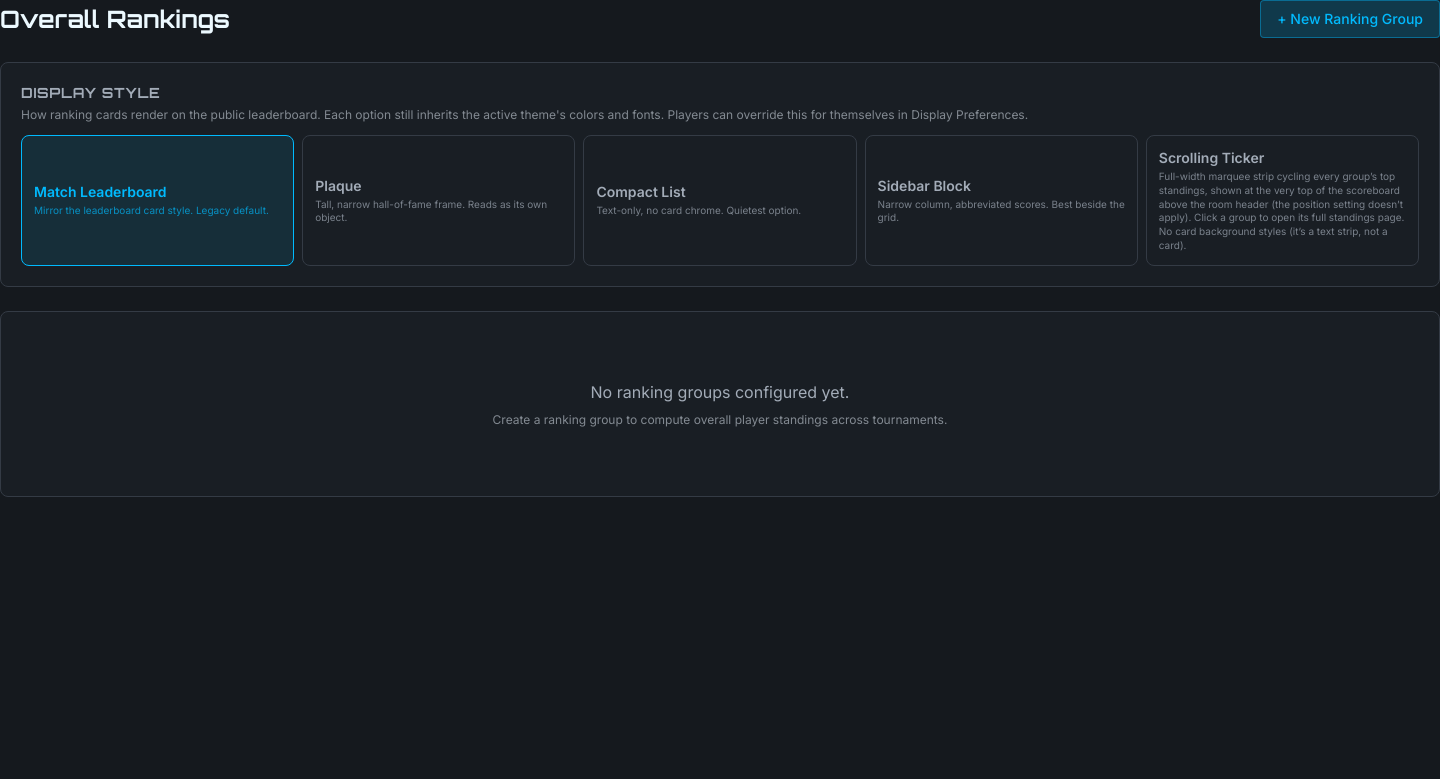
Test case: Rankings — season fields › shows Points for 1st only for Countdown, plus the archived checkbox
This screenshot has width=1440, height=779.
Click the button "+ New Ranking Group". click: (1350, 19)
box: [1260,0,1439,38]
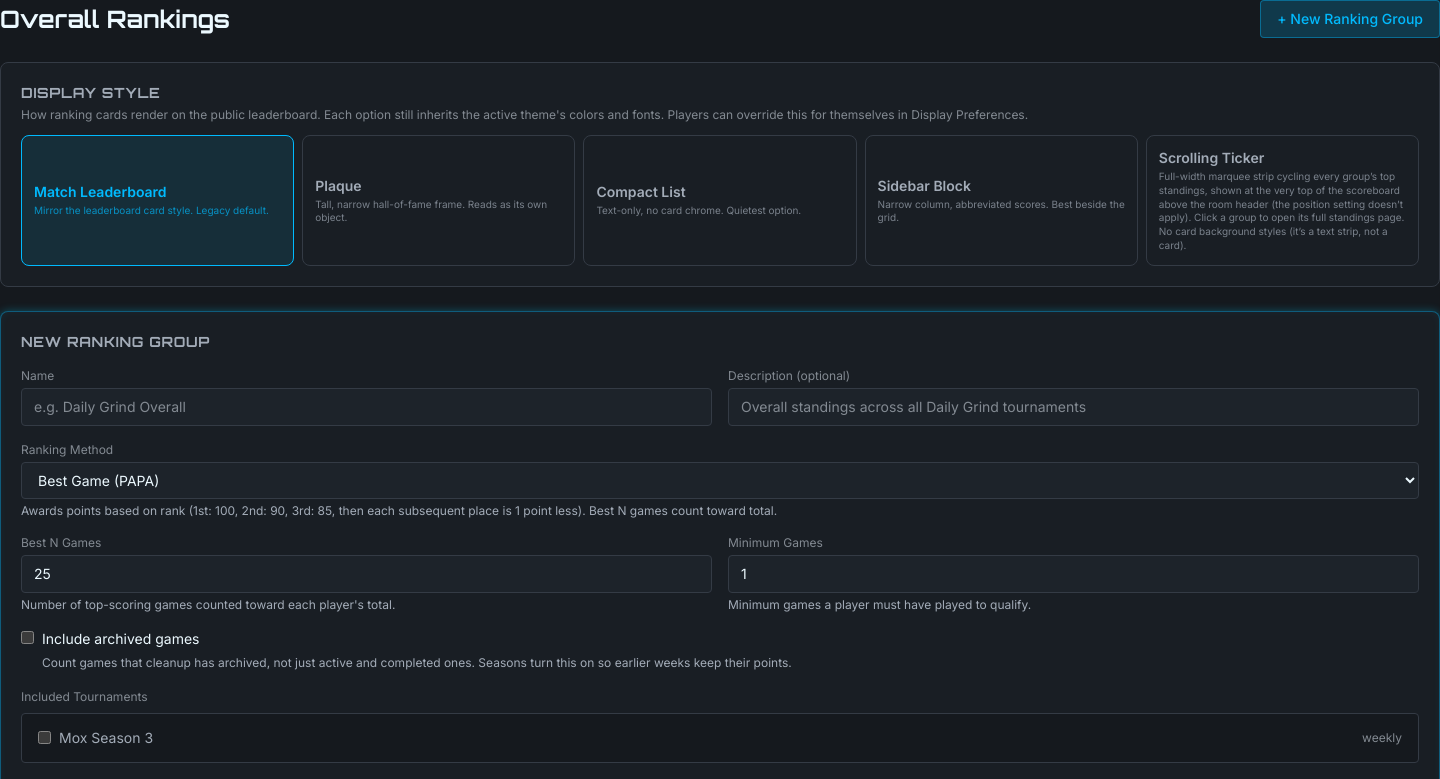
expect the field labelled "Points for 1st" is not shown: met
expect the text "Include archived games" is shown: met, box [42,630,200,646]
Select "Countdown" in the dropdown showing "Best Game (PAPA)". click: (720, 480)
box: [21,462,1419,498]
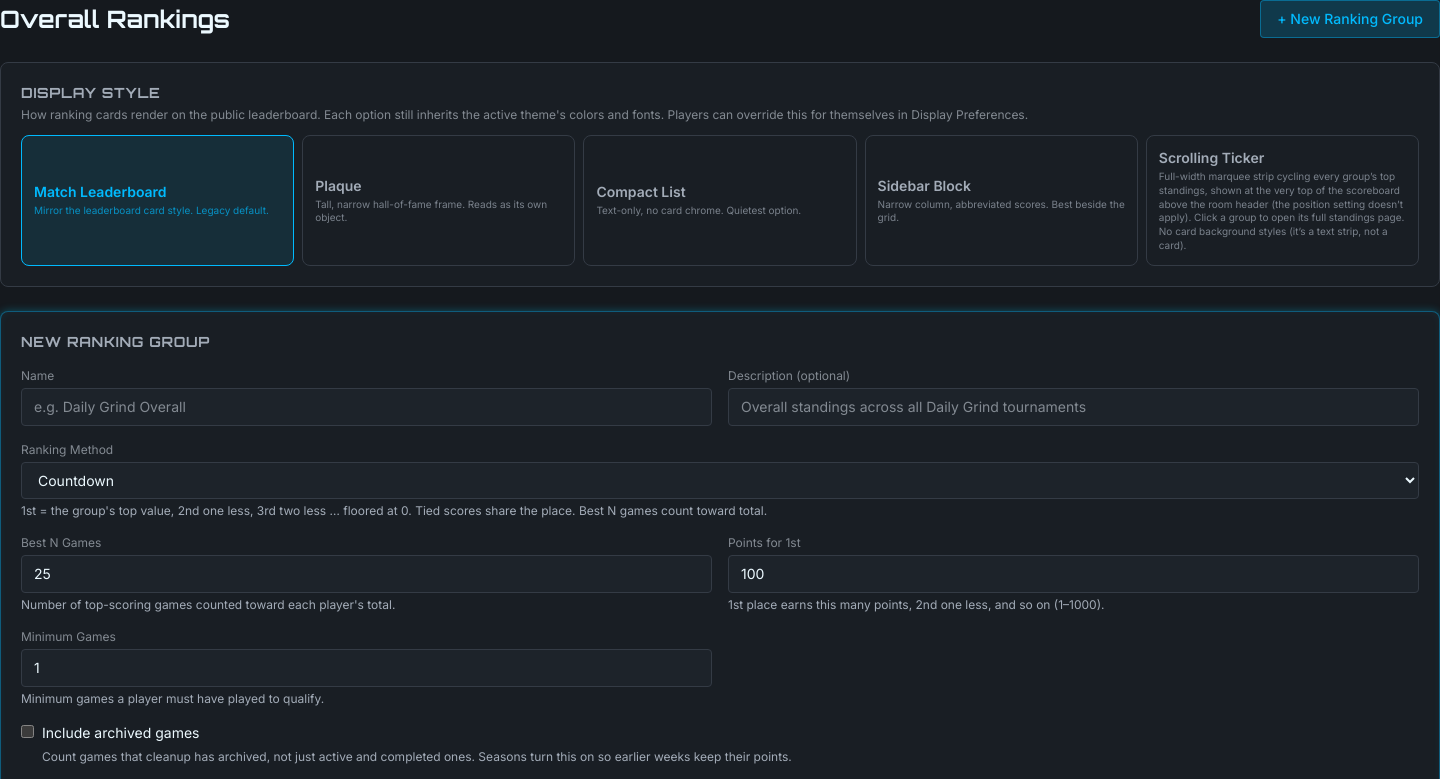
expect the number field labelled "Points for 1st" holds "100": met, box [728,554,1419,592]
expect the number field labelled "Points for 1st" is enabled: met, box [728,554,1419,592]
expect the text "1st = the group's top value" is shown: met, box [21,502,767,518]
Select "Max 10" in the dropdown showing "Best Game (PAPA)". click: (720, 480)
box: [21,462,1419,498]
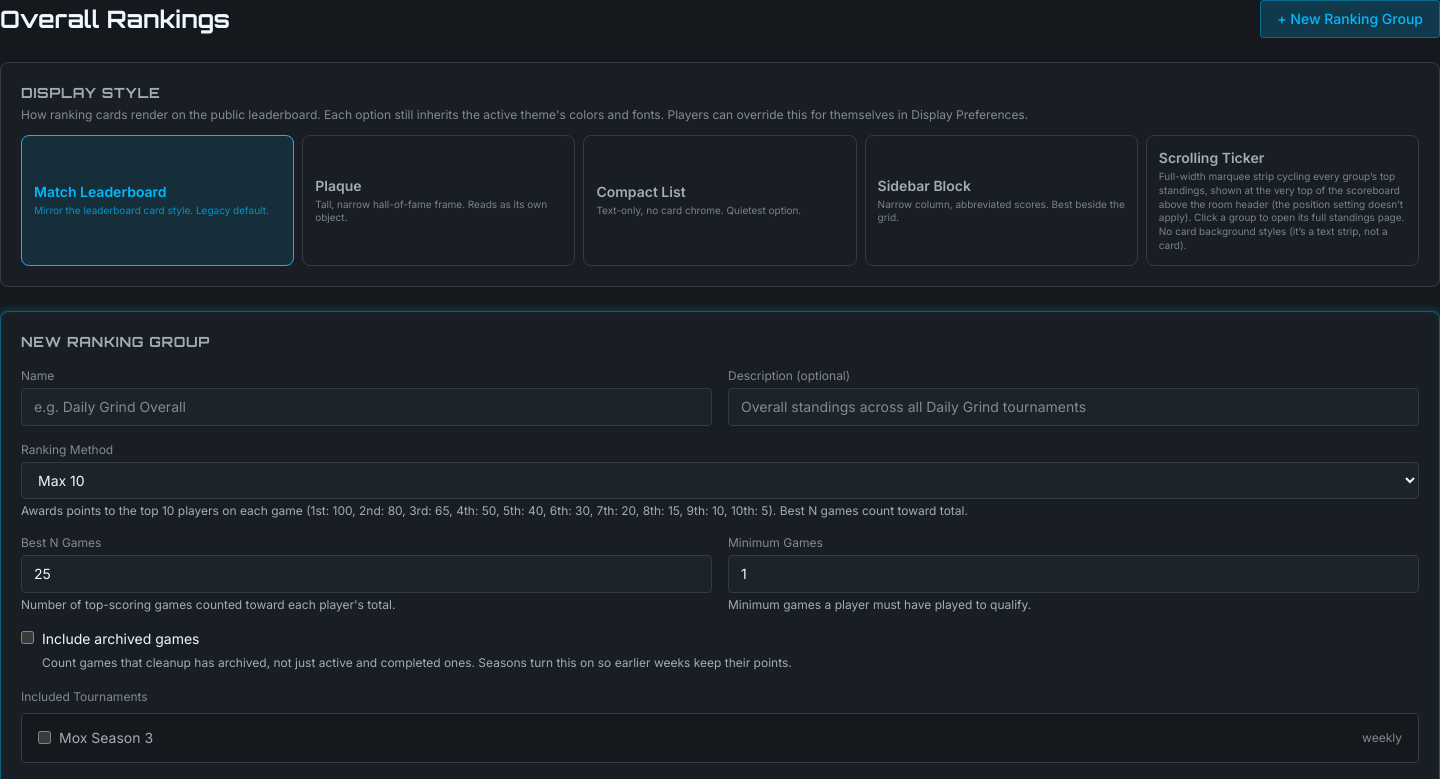
expect the label labelled "Points for 1st" is gone: met
